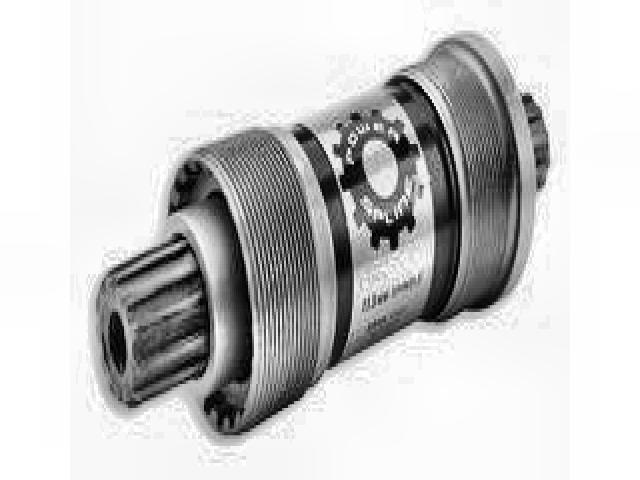bottom_bracket: (85, 30, 553, 442)
